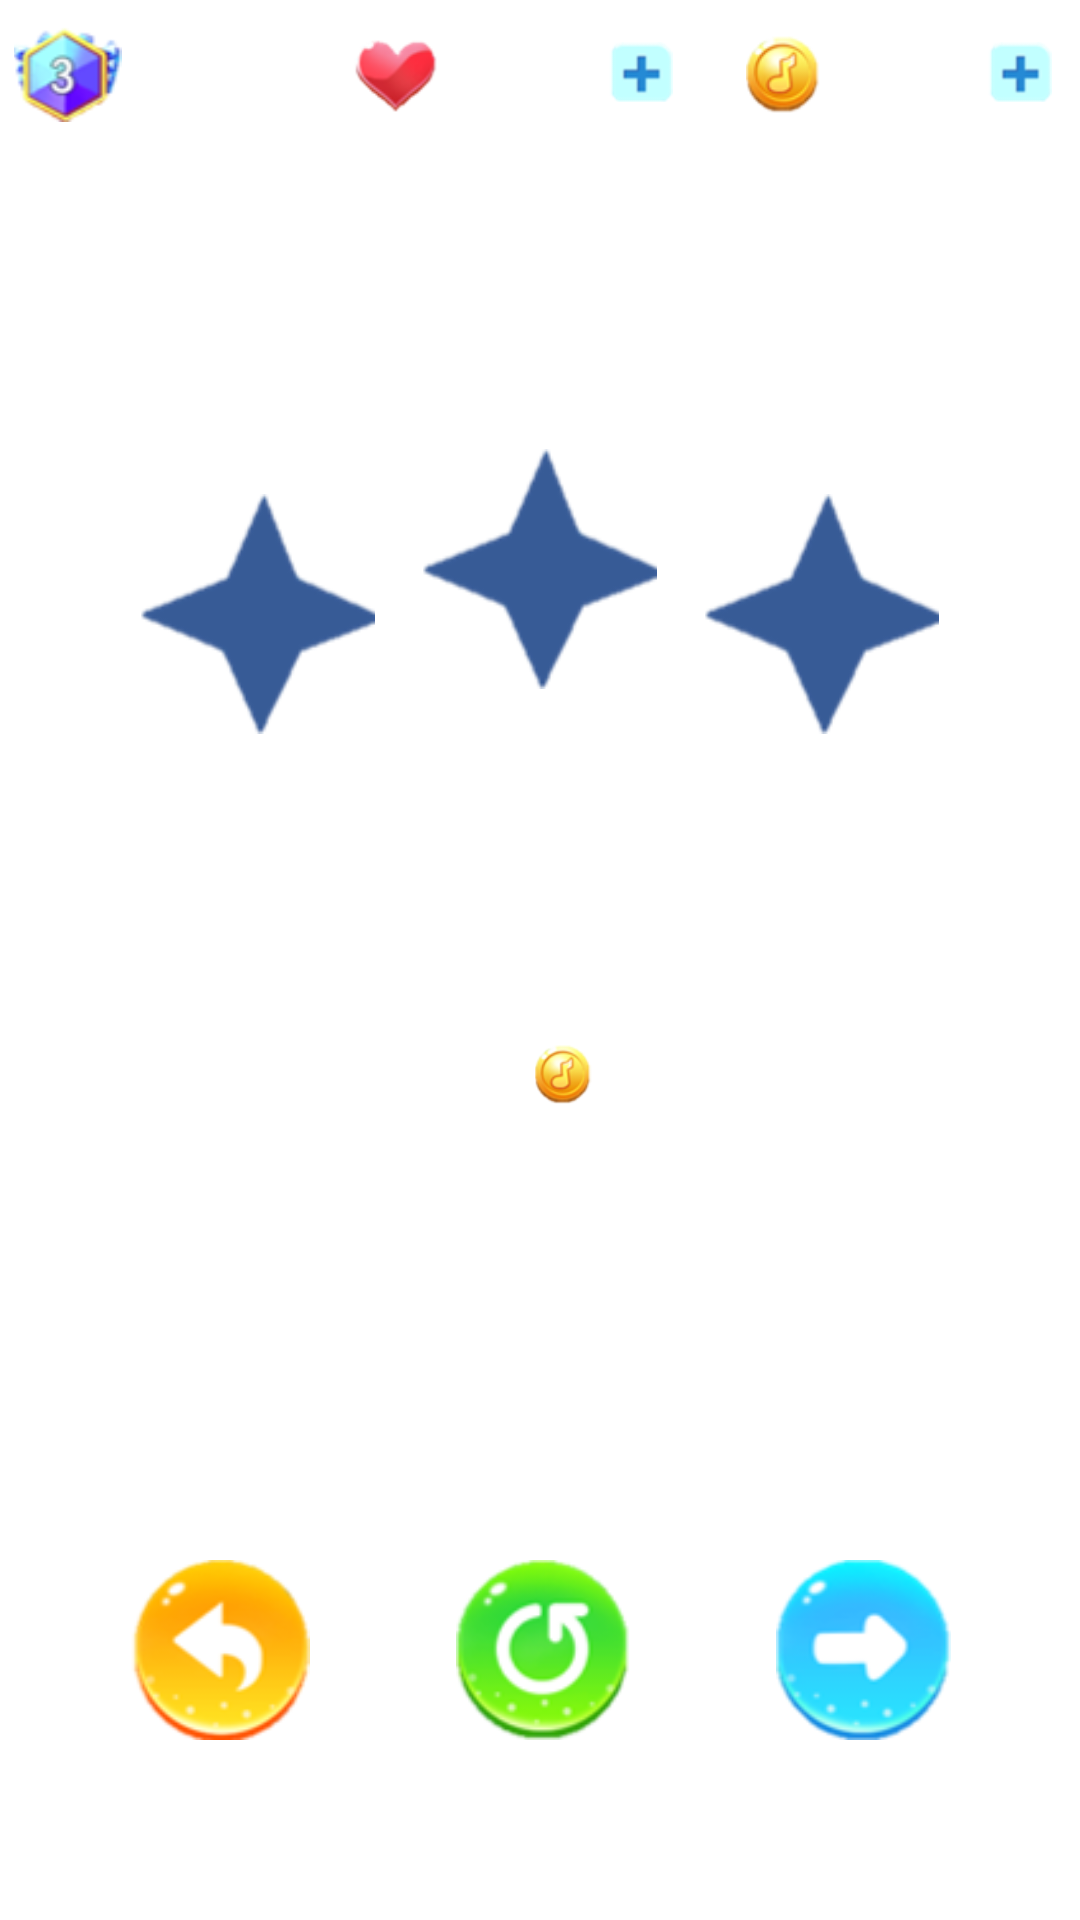

Screen size 1080 x 1920. Icon name, then its center in pixels as [x,y]:
add: [642,73], [1021,73]
end next: [863,1650]
end restart: [542,1650]
end return: [221,1650]
heart: [396,76]
level: [68,75]
money: [782,74], [562,1074]
